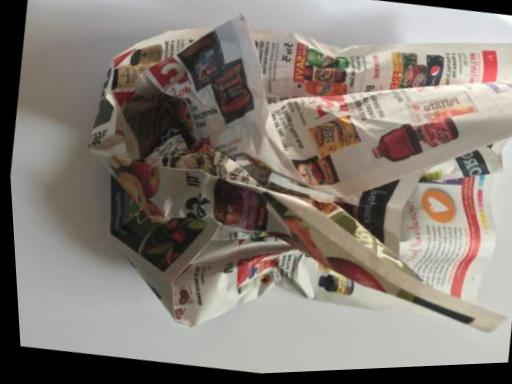paper: (23, 0, 418, 371)
